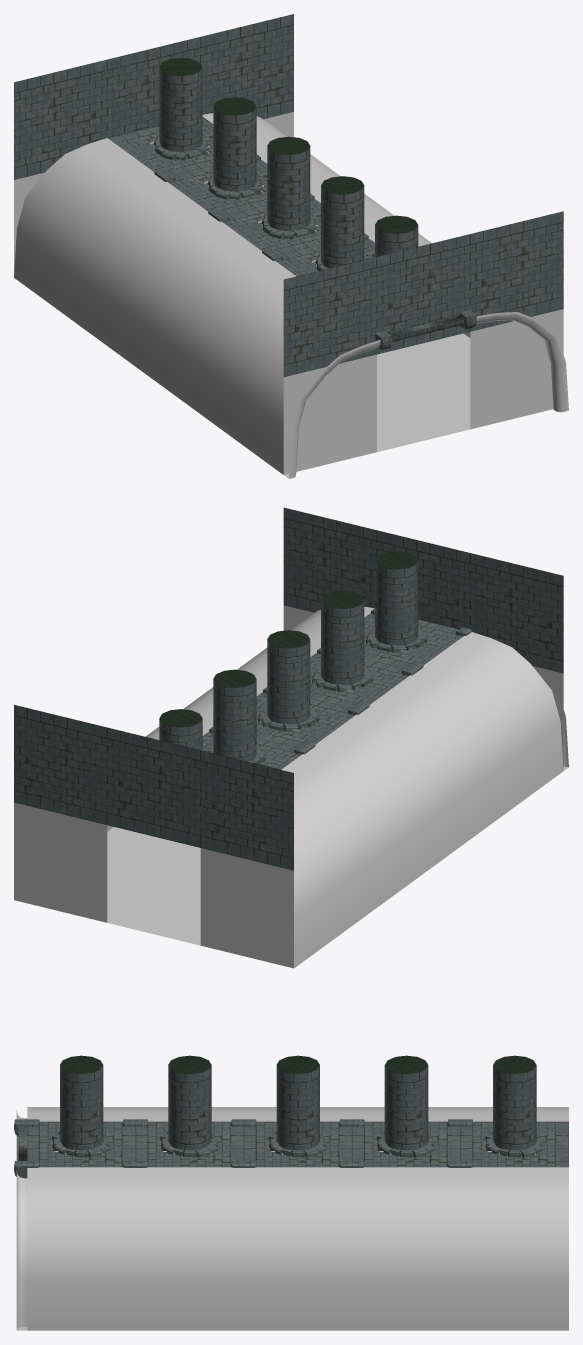
Rendered from m1_part1_finalRoom_v1 (1).FBX.
3 renders of one model, top to bottom at view 1: azimuth 30°, elevation 25°; view 2: azimuth 150°, elevation 25°; view 3: azimuth 270°, elevation 25°, orthographic.
Parts seen in each view (by area): view 1: big arc009, big arc007, big arc005, big arc003, wallbase004, wallbase002, wallbase, wallbase007, wallbase003, wallbase001, wallbase005, big arc010 (+23 smaller); view 2: big arc003, big arc010, big arc005, big arc007, wallbase006, wallbase007, wallbase009, wallbase008, wallbase005, wallbase004, wallbase002, big arc009 (+21 smaller); view 3: big arc008, big arc011, big arc002, big arc006, big arc004, Cylinder026, Cylinder027, Cylinder028, Cylinder025, Cylinder024, Plane010, Plane007 (+15 smaller).
Part boxes in pixels (box(x1,y1,x2,y2)): big arc009: box(14, 138, 158, 316); big arc007: box(68, 178, 212, 356); big arc005: box(122, 217, 266, 395); big arc003: box(175, 257, 296, 435); wallbase004: box(283, 257, 376, 376); wallbase002: box(470, 211, 563, 331); wallbase: box(283, 354, 376, 474); wallbase007: box(14, 59, 107, 179); wallbase003: box(377, 234, 470, 354); wallbase001: box(470, 309, 563, 429); wallbase005: box(200, 14, 293, 124); big arc010: box(229, 311, 283, 474); big arc003: box(364, 671, 509, 849); big arc010: box(418, 632, 563, 810); big arc005: box(310, 711, 455, 888); big arc007: box(281, 750, 401, 928); wallbase006: box(107, 727, 200, 847); wallbase007: box(200, 750, 293, 870); wallbase009: box(14, 802, 107, 922); wallbase008: box(200, 848, 293, 968); wallbase005: box(14, 705, 107, 824); wallbase004: box(470, 553, 563, 673); wallbase002: box(283, 507, 376, 612); big arc009: box(294, 804, 347, 968); big arc008: box(460, 1167, 568, 1330); big arc011: box(27, 1167, 135, 1330); big arc002: box(135, 1167, 243, 1330); big arc006: box(352, 1167, 460, 1330); big arc004: box(244, 1167, 352, 1330); Cylinder026: box(384, 1055, 428, 1150); Cylinder027: box(493, 1055, 536, 1150); Cylinder028: box(60, 1055, 103, 1150); Cylinder025: box(276, 1055, 319, 1150); Cylinder024: box(168, 1055, 211, 1150); Plane010: box(460, 1122, 568, 1167); Plane007: box(135, 1122, 243, 1167).
Bounding box in the file's own units: 76.2 × 51.23 × 130.
